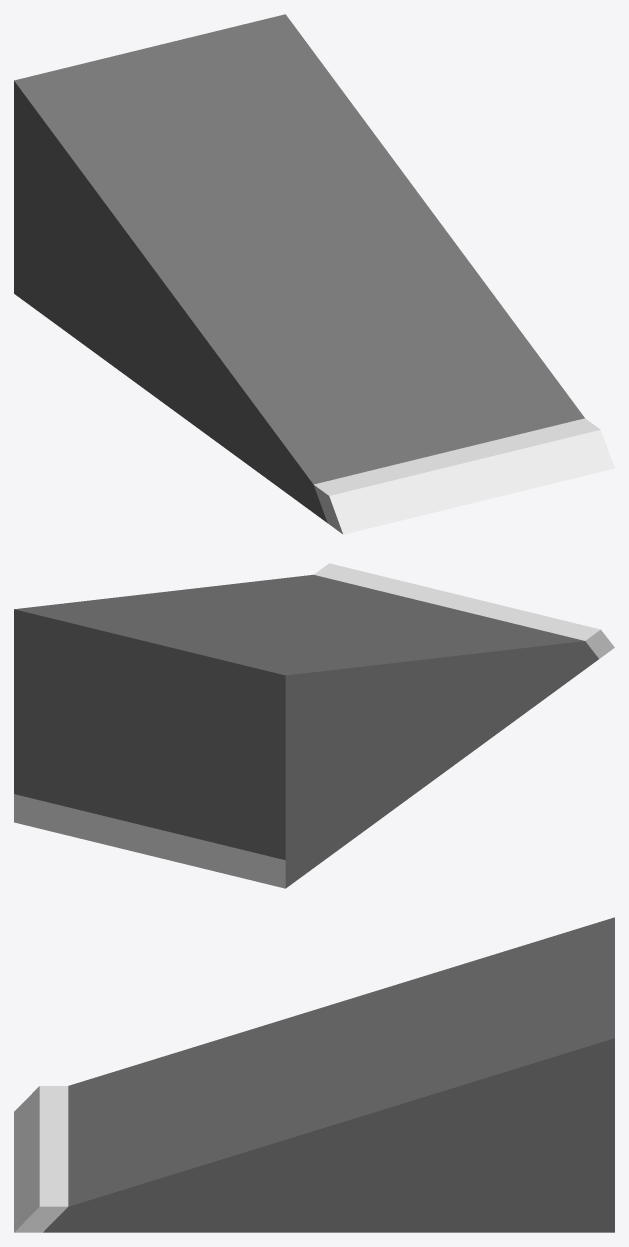
The model's file is RoofShedSmallMiddle.glb.
3 views of the same model, one above another, from view 1: azimuth 30°, elevation 25°; view 2: azimuth 150°, elevation 25°; view 3: azimuth 270°, elevation 25° (orthographic). The views are drawn at different scales.
Visible parts, largest first — view 1: RoofShedSmallMiddle; view 2: RoofShedSmallMiddle; view 3: RoofShedSmallMiddle.
Part boxes in pixels (box(x1,y1,x2,y2)): RoofShedSmallMiddle: box(14, 14, 614, 534); RoofShedSmallMiddle: box(14, 563, 614, 888); RoofShedSmallMiddle: box(14, 917, 614, 1232).
Size of the model in its own units: 0.9999 by 0.75 by 2.1.
1 material, 1 textured.
